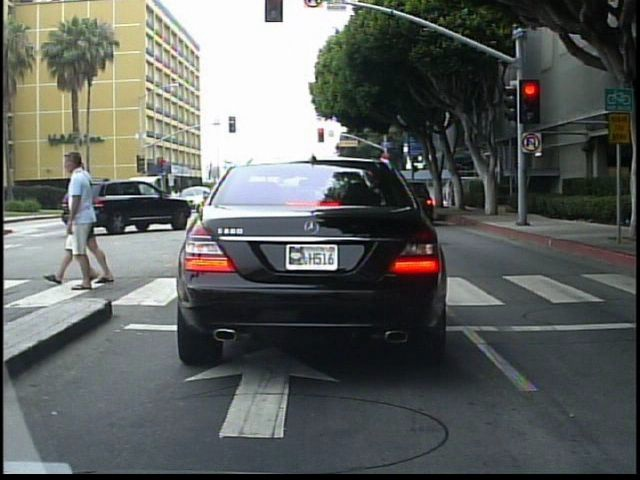person: (62, 150, 120, 292), (65, 149, 94, 290), (443, 177, 456, 211)
